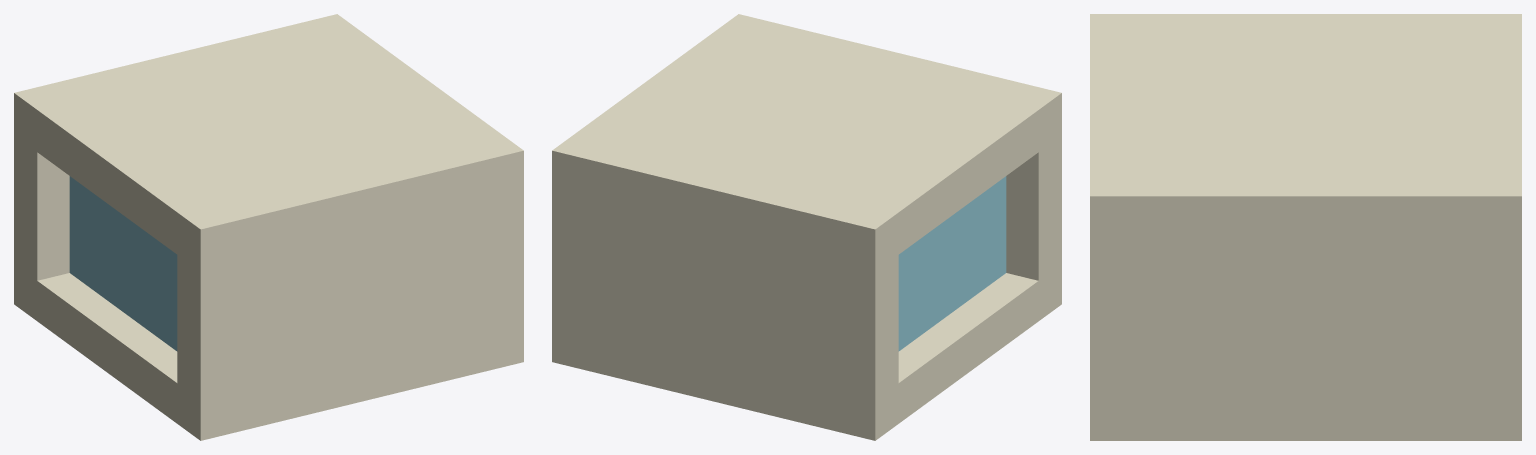
The model's file is modularBuildings_040.fbx.
The picture shows the model from 3 angles, left to right: view 1: azimuth 30°, elevation 25°; view 2: azimuth 150°, elevation 25°; view 3: azimuth 270°, elevation 25°; orthographic projection. The views are drawn at different scales.
Parts seen in each view (by area): view 1: Mesh1_Group1 Model; view 2: Mesh1_Group1 Model; view 3: Mesh1_Group1 Model.
Part boxes in pixels (box(x1,y1,x2,y2)): Mesh1_Group1 Model: box(14, 14, 523, 440); Mesh1_Group1 Model: box(552, 14, 1061, 440); Mesh1_Group1 Model: box(1090, 14, 1521, 440).
Size of the model in its own units: 1 by 0.625 by 1.
